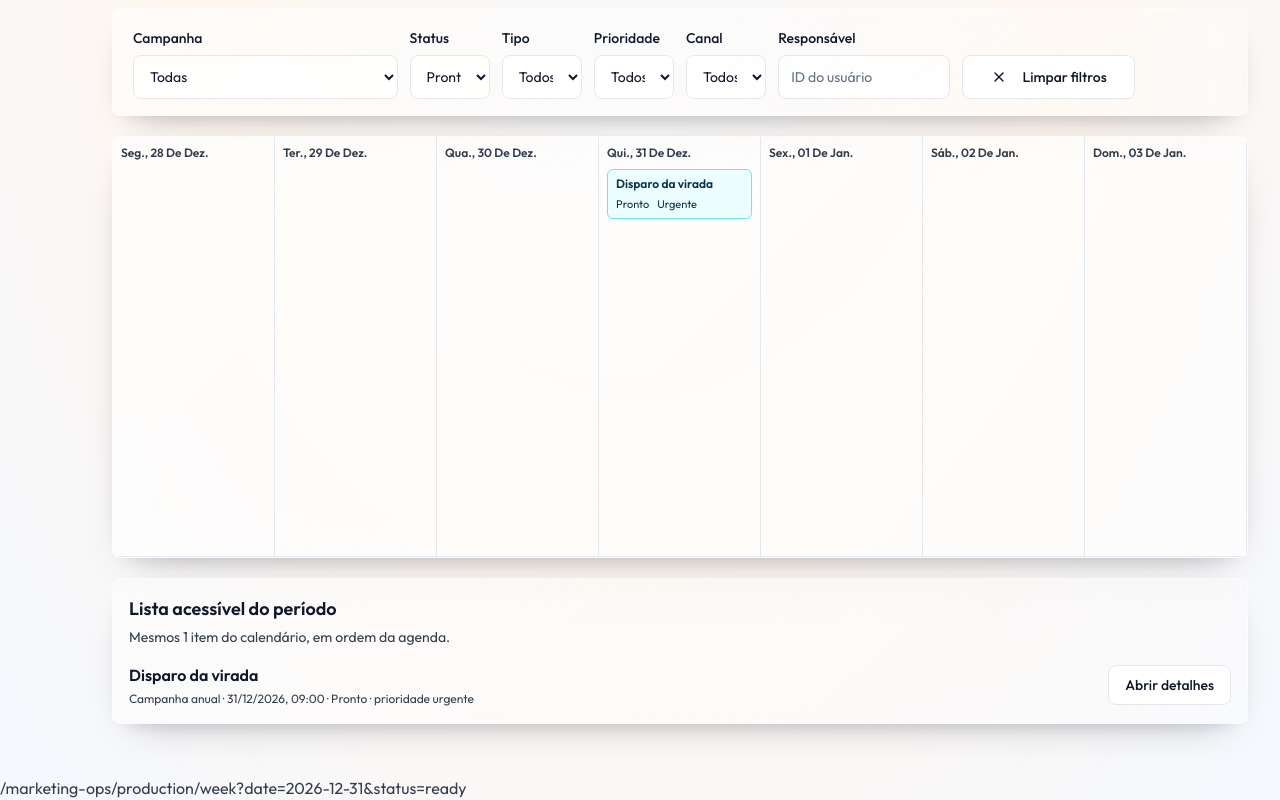
Test: ProductionWeekPage › opens the shared detail dialog without requiring drag and keeps the calendar URL
The image size is (1280, 800).
(page scrolled)
Click the button with aria-label "Abrir item Disparo da virada" at (1170, 685), box [1108,665,1231,705]
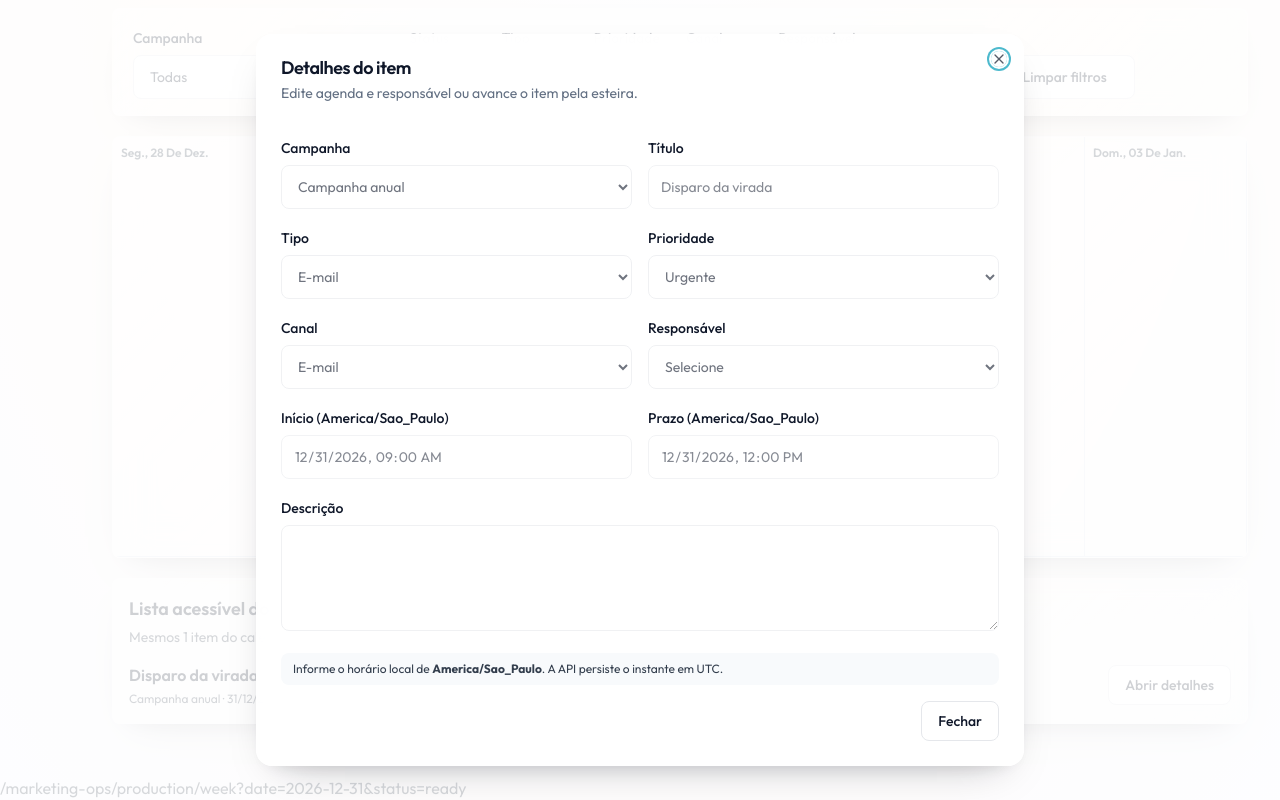
Expected: the text with test id "location" shows "/marketing-ops/production/week?date=2026-12-31", [0,778,467,798]
Now the dialog "Detalhes do item" is shown, box [256,34,1024,766]
